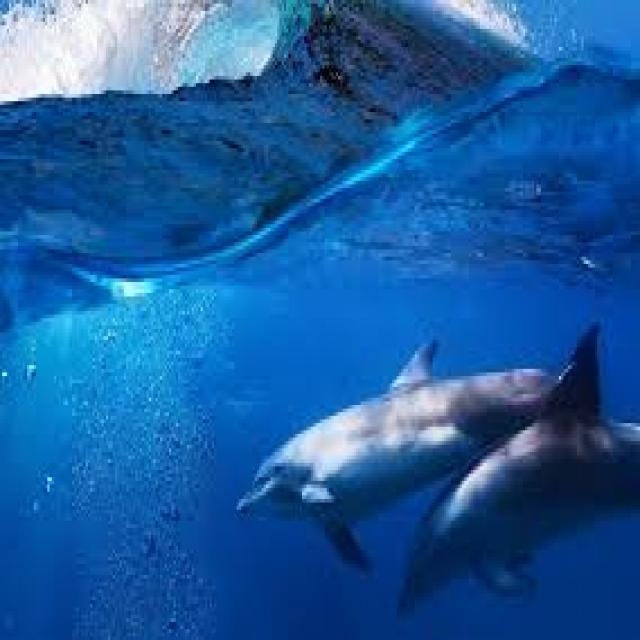dolphin: (229, 318, 556, 503)
